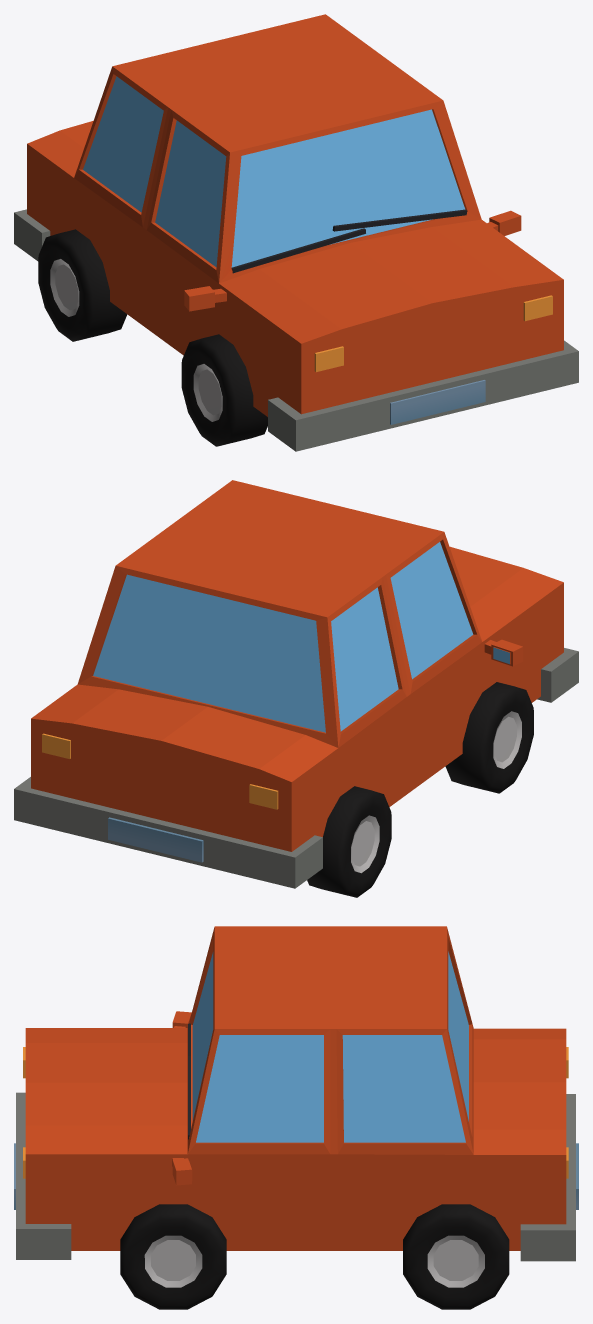
The model's file is SimpleCar.fbx.
3 views of the same model, one above another, from view 1: azimuth 30°, elevation 25°; view 2: azimuth 150°, elevation 25°; view 3: azimuth 270°, elevation 25° (orthographic).
Visible parts, largest first — view 1: SimpleCar; view 2: SimpleCar; view 3: SimpleCar.
Part boxes in pixels (x1,y1,x2,y2): SimpleCar: (14,14,578,451); SimpleCar: (14,480,578,897); SimpleCar: (14,926,578,1309).
Bounding box in the file's own units: 266 × 202 × 399.
Materials: 1 (1 with a texture image).
